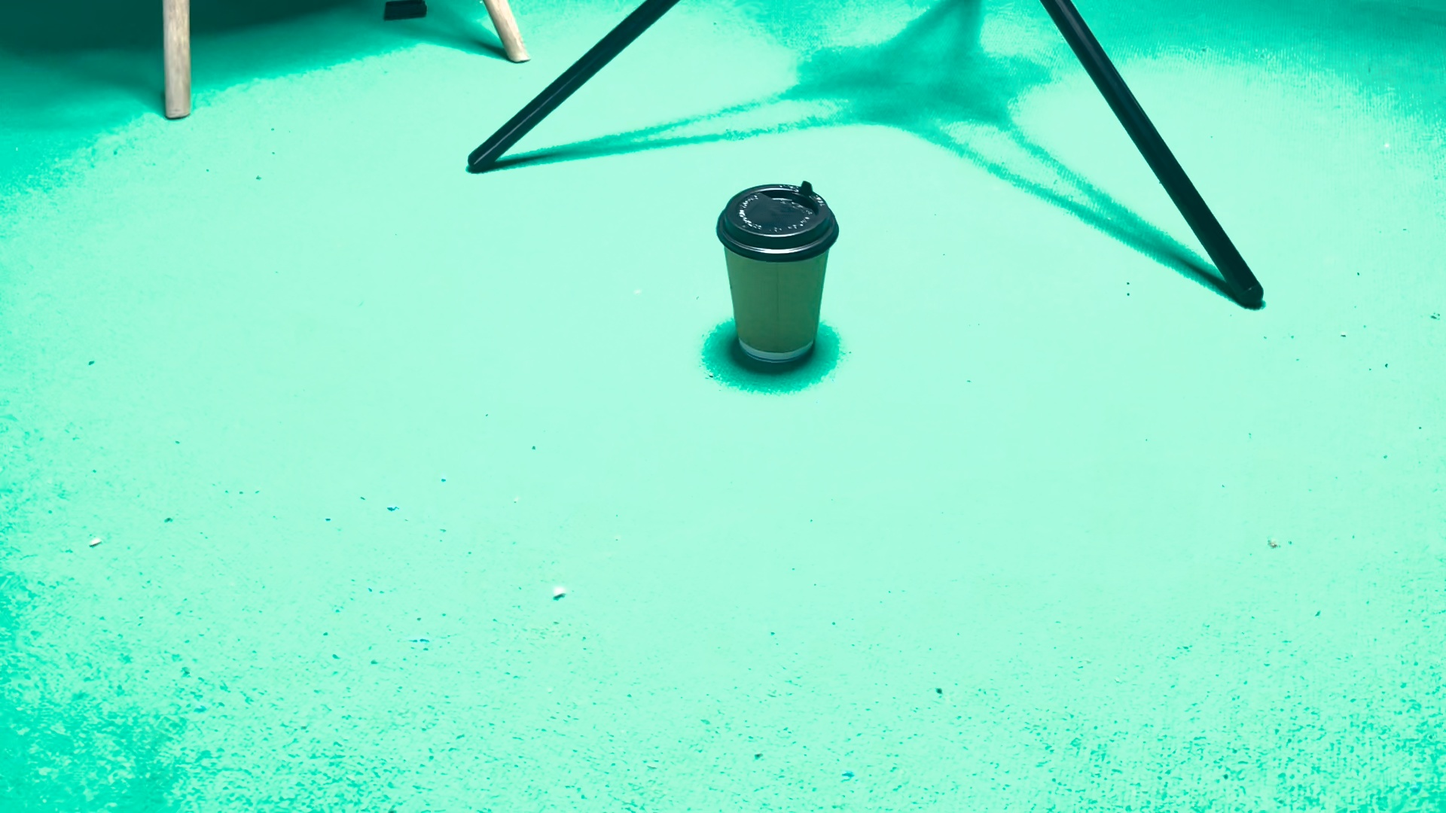cup: (741, 430, 832, 547)
